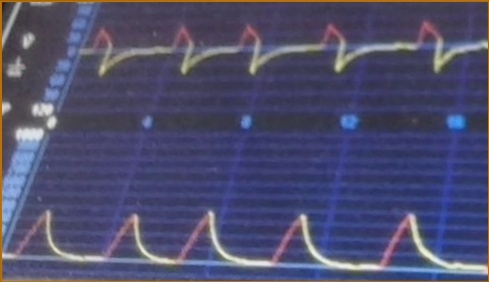Normal Flow: (83, 13, 487, 86)
Normal Volume: (5, 200, 489, 276)
